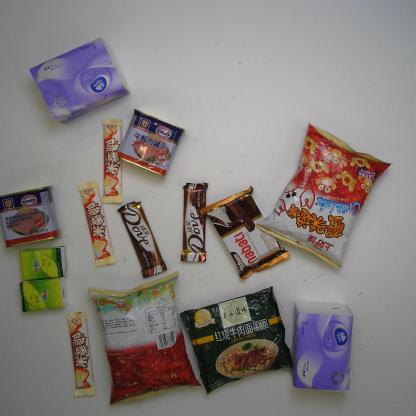Canned Food: (118, 107, 186, 177), (0, 184, 61, 248)
Chocolate: (117, 200, 167, 277), (76, 180, 116, 268), (64, 309, 94, 399), (181, 181, 209, 263), (100, 119, 122, 204)
Dessert: (199, 184, 291, 279)
Instant Noodles: (179, 287, 292, 394)
Puffed Food: (256, 121, 393, 271), (89, 271, 201, 407)
Tissue: (28, 40, 130, 123), (291, 300, 354, 394), (18, 277, 67, 312), (19, 247, 67, 281)
